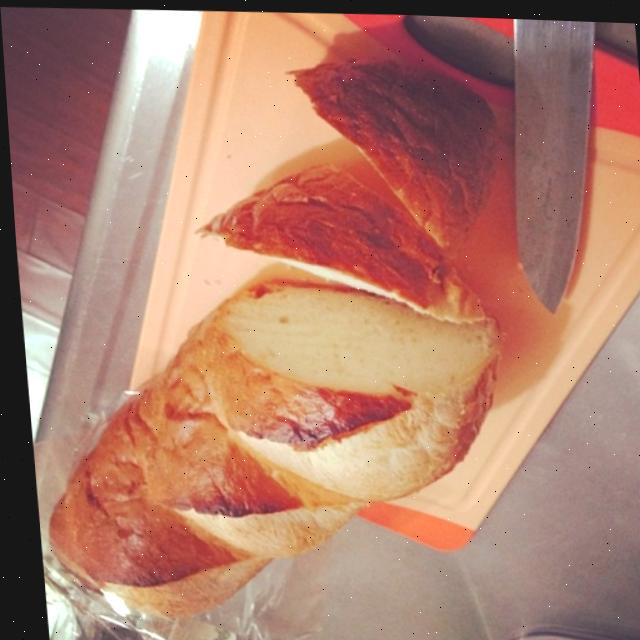汤锅炖物: (95, 395, 328, 622)
炸货点心: (302, 205, 547, 488)
熟制海鲜: (302, 205, 547, 488)
米饭主食: (0, 0, 318, 181)
蔬菜料理: (67, 153, 333, 392)
